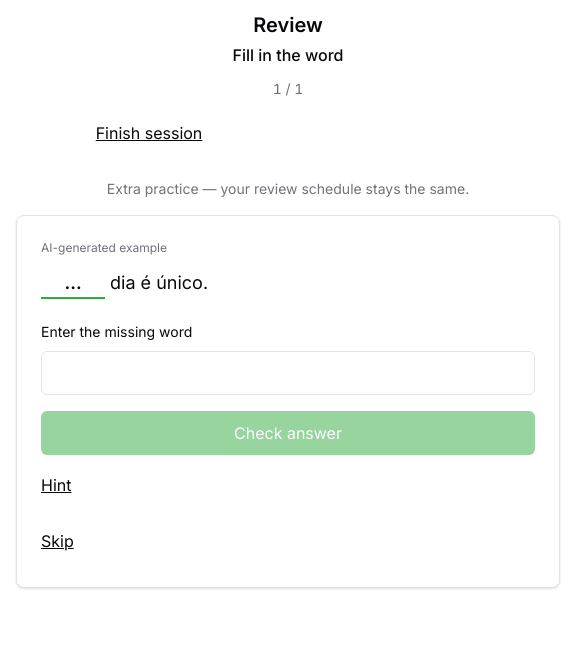
Test: Review localization › localizes the independent fill exercise and hint
Expected: the field labelled "Enter the missing word" is shown, [41,351,535,395]
Step 1. Click the button "Hint" → (56, 485), box [41,463,72,507]
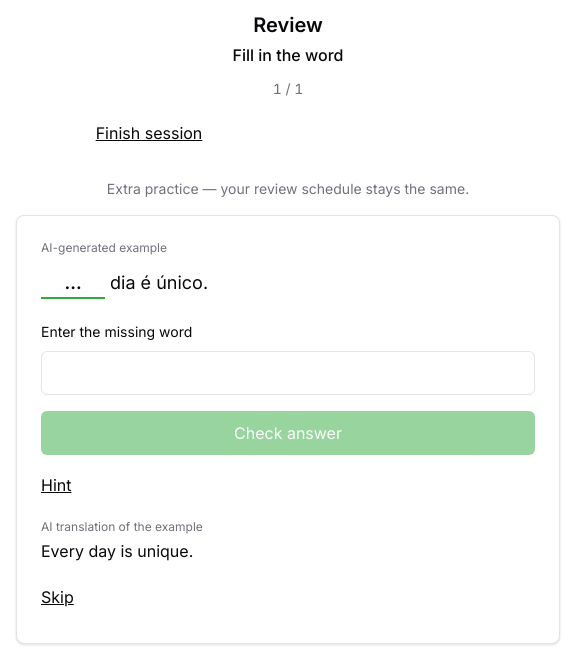
Result: the text "Every day is unique." is shown at [41,541,193,561]
